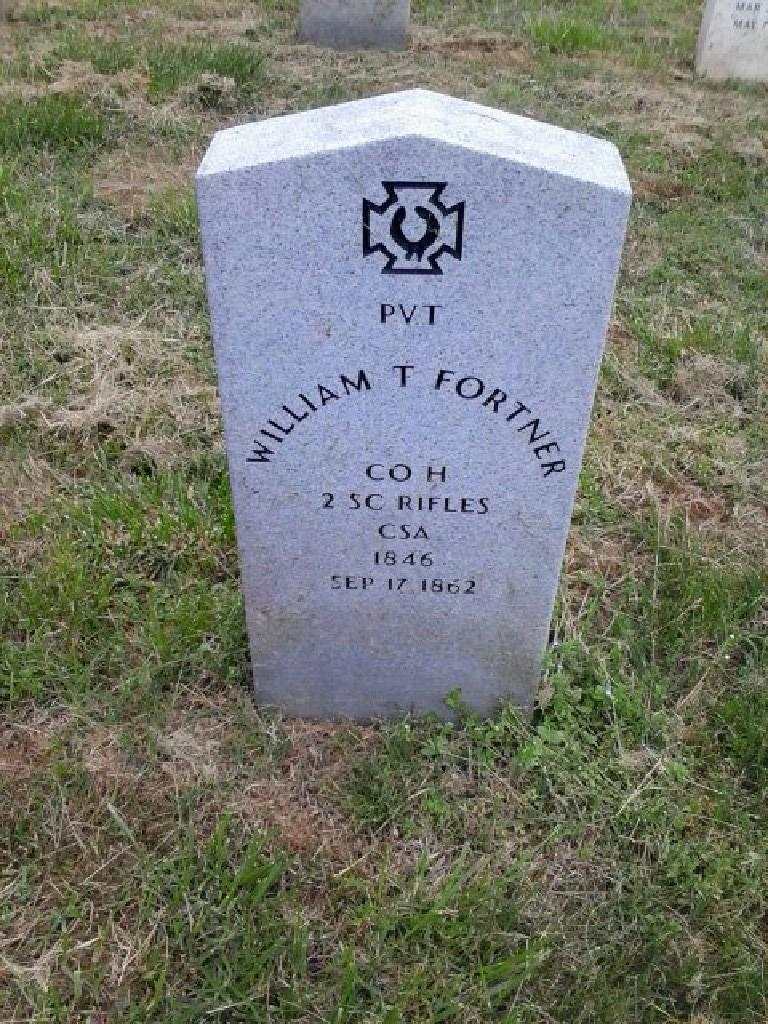military: (193, 86, 635, 724)
